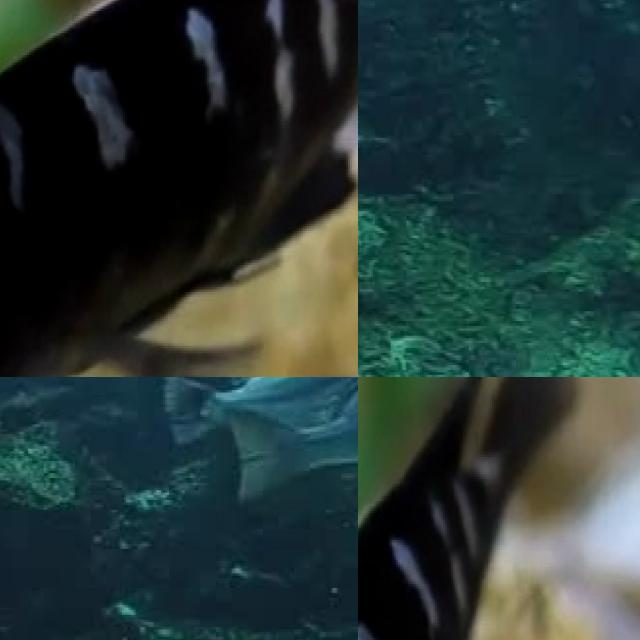fish: (0, 0, 358, 377), (358, 377, 589, 640)
